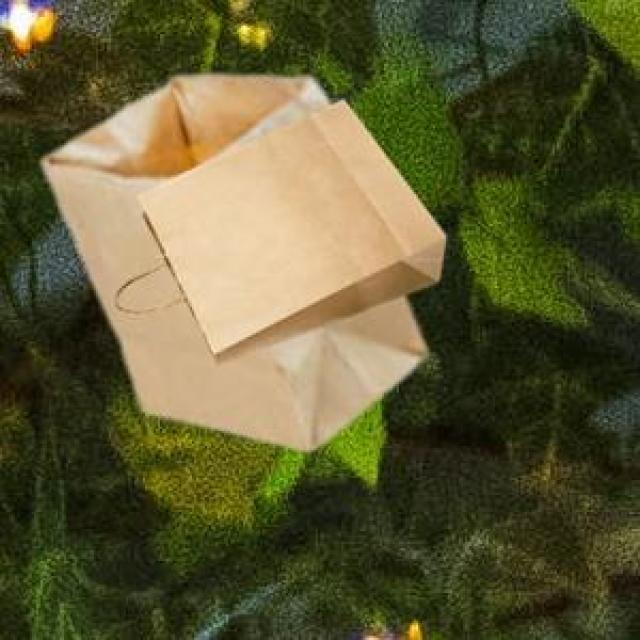paper: (38, 70, 422, 446), (113, 96, 442, 361)
